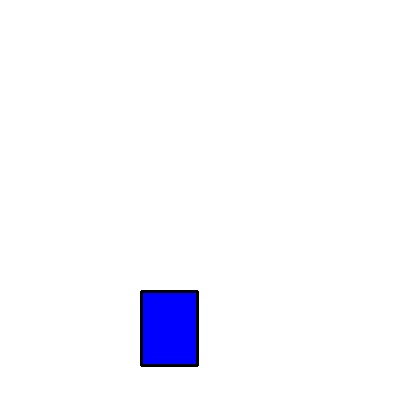rectangle: (141, 291, 197, 365)
